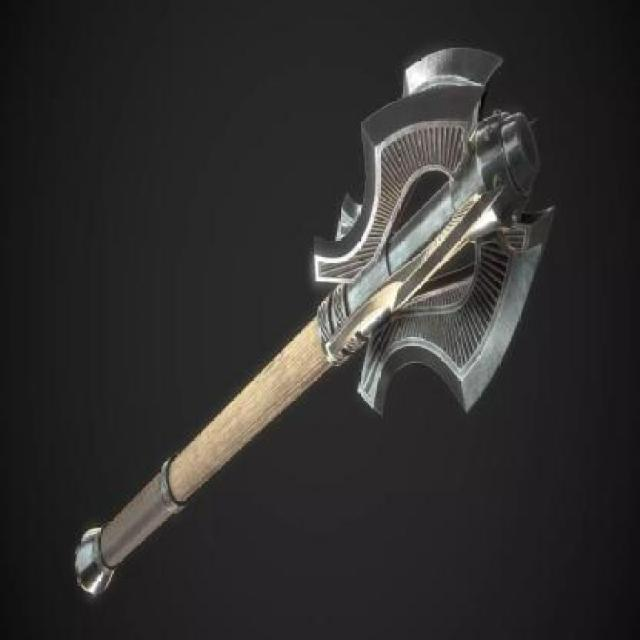weapon: (70, 45, 556, 598)
